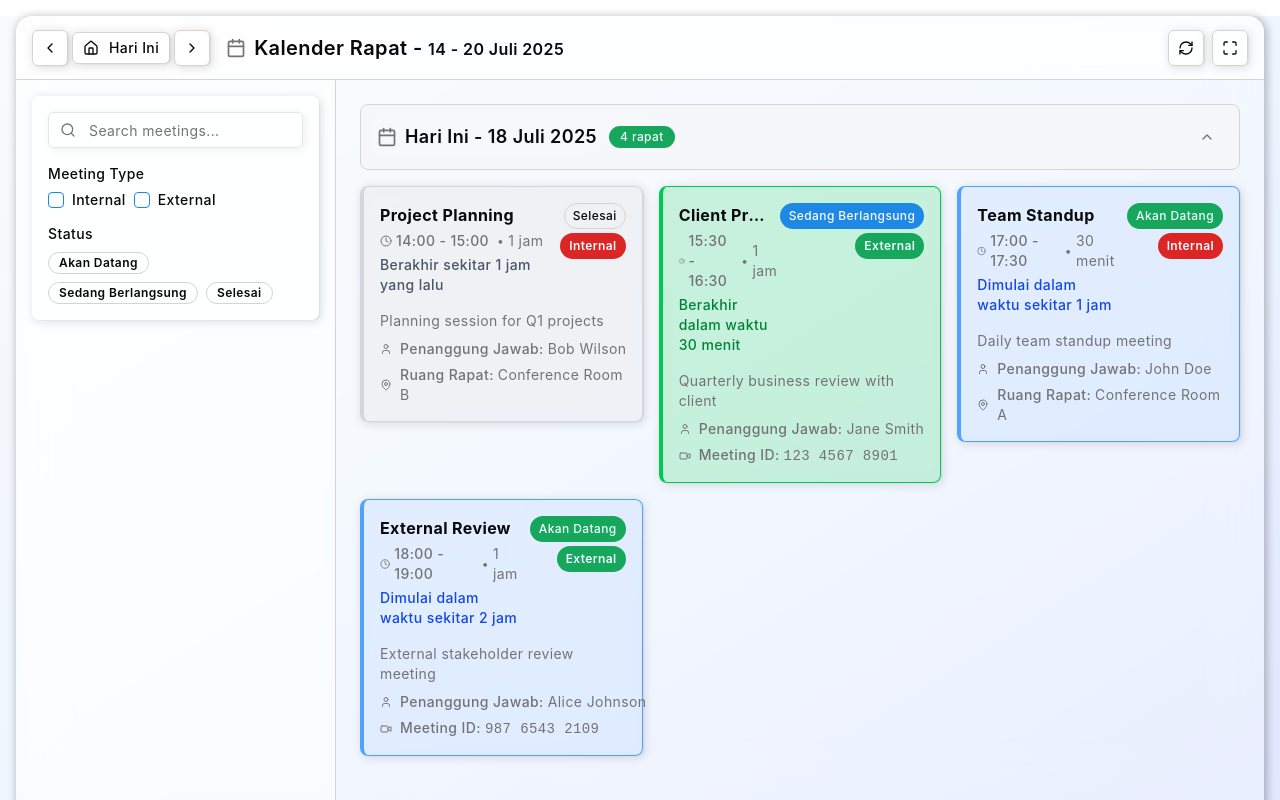
Test: PublicCalendar Integration Tests › Component Interactions and State Management › should handle rapid filter changes
Expected: the heading "Team Standup" is shown, [977,205,1095,225]
// Type rapidly
In the field with placeholder "Search meetings...": (176, 130) [48,112,303,148], type "Team"
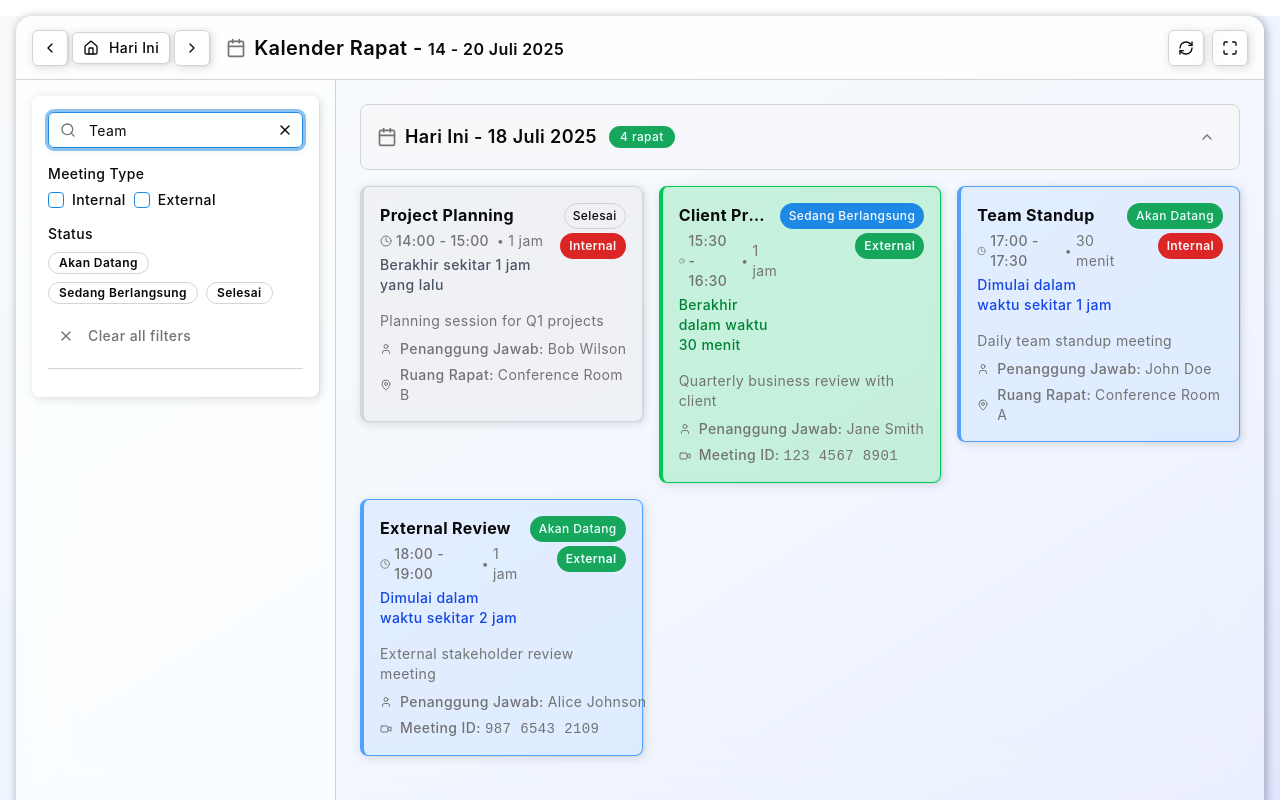
Replace the text in the field with placeholder "Search meetings..." with "Client": (176, 130) [48,112,303,148]
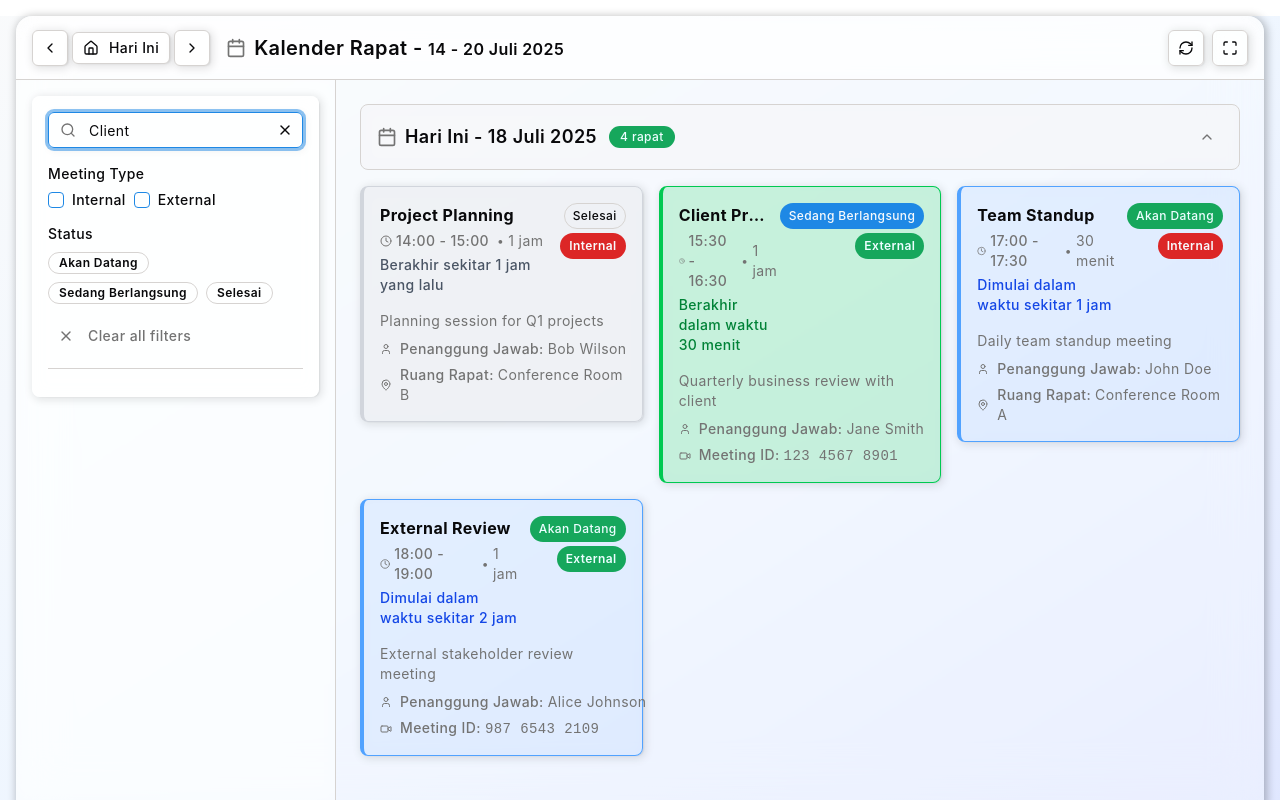
Replace the text in the field with placeholder "Search meetings..." with "Project": (176, 130) [48,112,303,148]
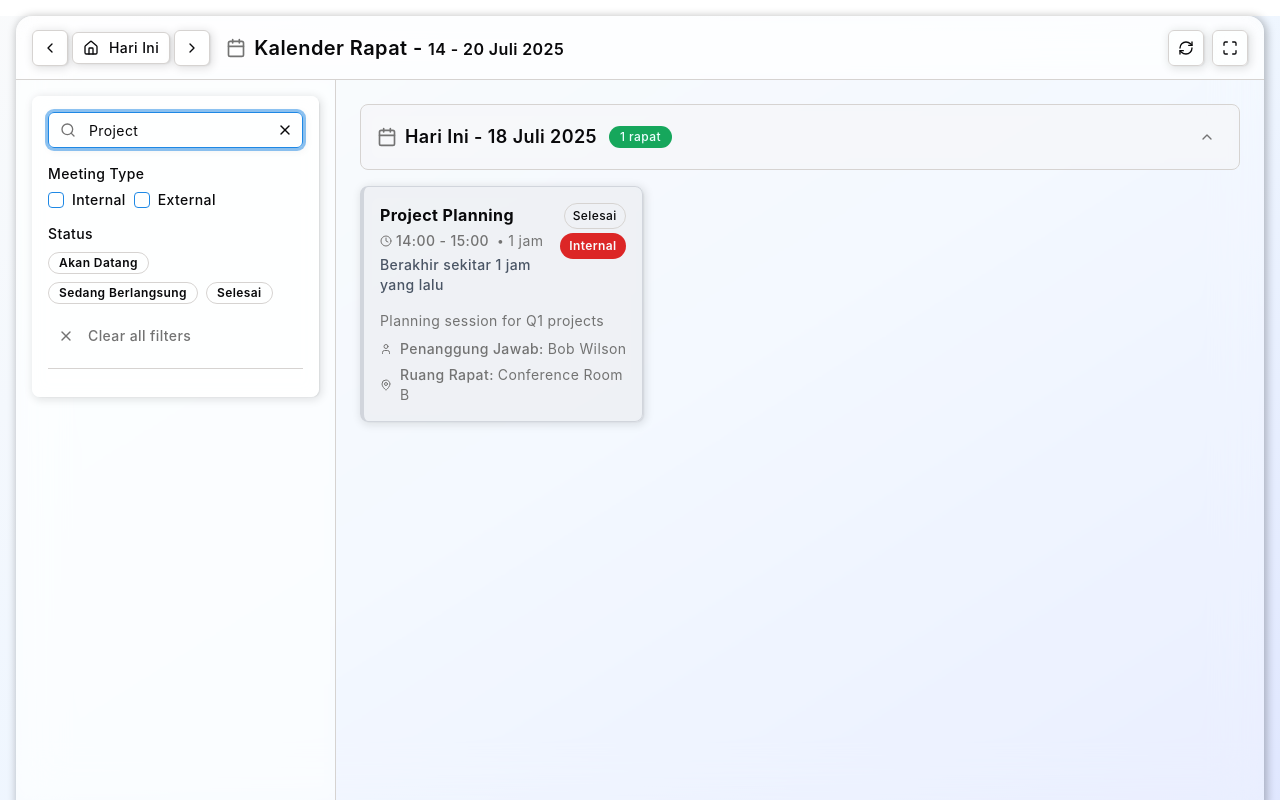
Expected: the heading "Project Planning" is shown, [380,205,514,225]
Expected: the heading "Team Standup" is gone
